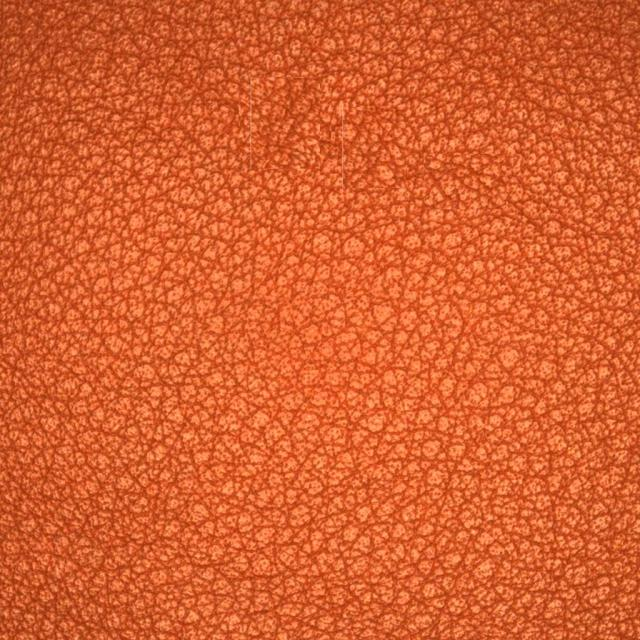Healed Injury: (318, 71, 514, 227), (48, 60, 275, 182)
